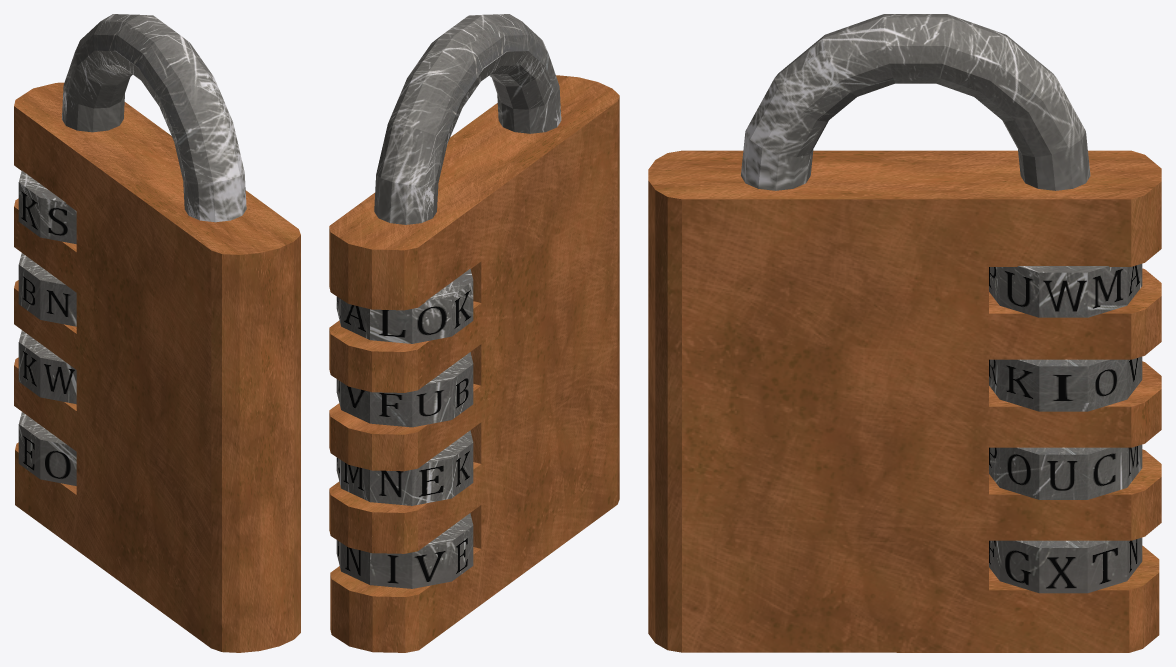
Rendered from puzzlepadlock2.fbx.
The picture shows the model from 3 angles, left to right: view 1: azimuth 30°, elevation 25°; view 2: azimuth 150°, elevation 25°; view 3: azimuth 270°, elevation 25°; orthographic projection. The views are drawn at different scales.
Visible parts, largest first — view 1: MainPart, Handle, Slot4, Slot3, Slot2, Slot1; view 2: MainPart, Handle, Slot4, Slot3, Slot2, Slot1; view 3: MainPart, Handle, Slot4, Slot3, Slot2, Slot1.
Part boxes in pixels (x1=…): MainPart: x1=14, y1=82, x2=300, y2=652; Handle: x1=62, y1=14, x2=246, y2=222; Slot4: x1=18, y1=412, x2=76, y2=485; Slot3: x1=18, y1=330, x2=76, y2=404; Slot2: x1=18, y1=253, x2=76, y2=326; Slot1: x1=18, y1=170, x2=76, y2=244; MainPart: x1=329, y1=75, x2=619, y2=652; Handle: x1=374, y1=14, x2=561, y2=224; Slot4: x1=336, y1=513, x2=473, y2=588; Slot3: x1=336, y1=430, x2=473, y2=505; Slot2: x1=336, y1=352, x2=473, y2=427; Slot1: x1=336, y1=268, x2=473, y2=343; MainPart: x1=648, y1=150, x2=1161, y2=652; Handle: x1=741, y1=14, x2=1090, y2=190; Slot4: x1=989, y1=537, x2=1142, y2=593; Slot3: x1=989, y1=444, x2=1142, y2=499; Slot2: x1=989, y1=356, x2=1142, y2=411; Slot1: x1=989, y1=264, x2=1142, y2=317.
Bounding box in the file's own units: 0.6328 × 2.86 × 2.17.
